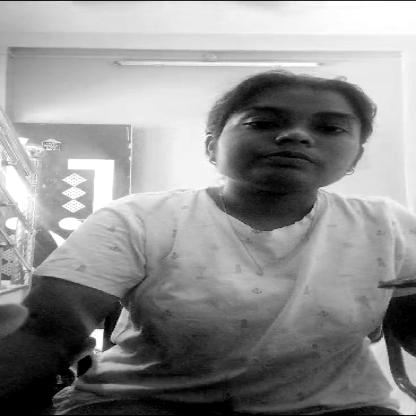Normal: (228, 86, 359, 184)
